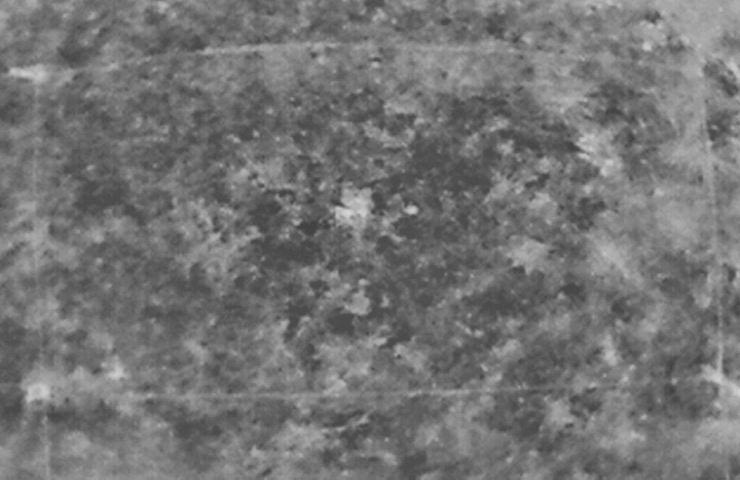landmines: (331, 181, 379, 226)
